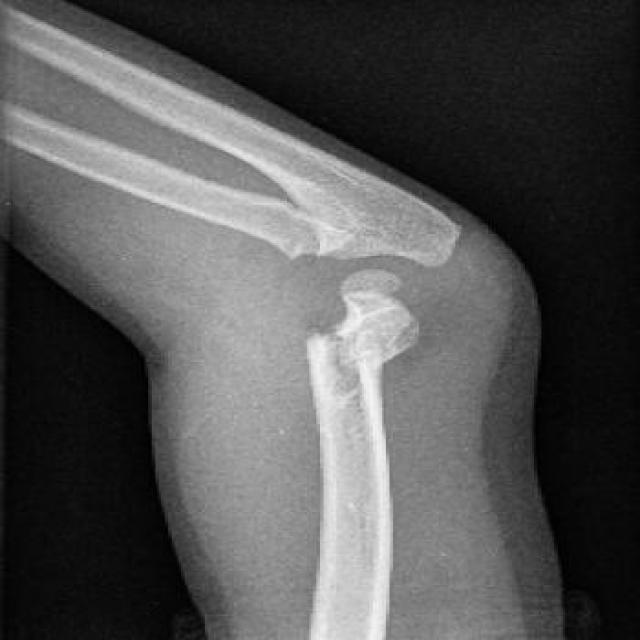Fracture: (277, 232, 396, 364)
